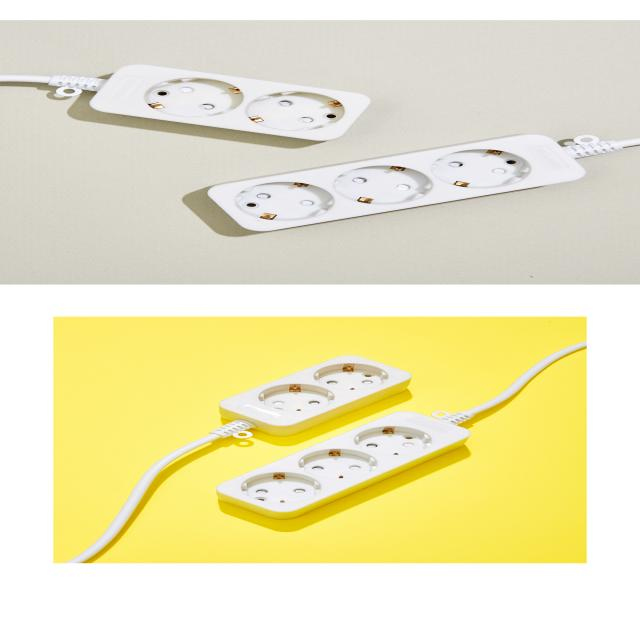typeb: (160, 123, 630, 257), (216, 415, 532, 536), (54, 52, 393, 138), (205, 341, 428, 432)
